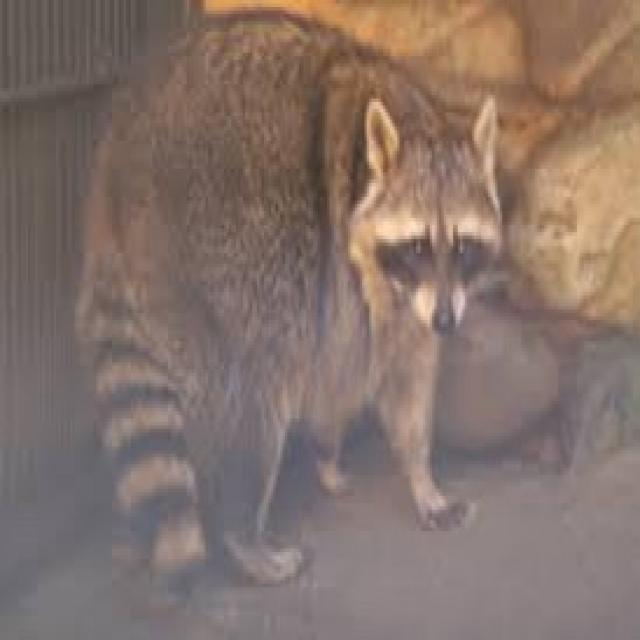racoon: (79, 11, 507, 590)
